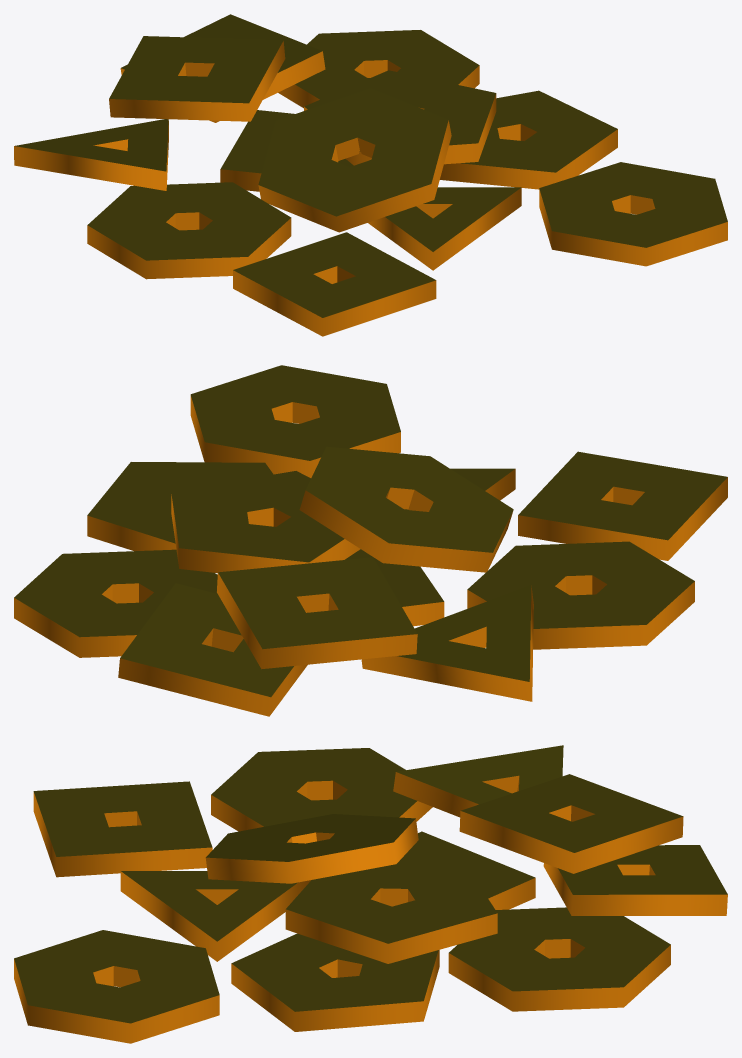
Rendered from prop_pile_of_coins_1.FBX.
3 renders of one model, top to bottom at view 1: azimuth 30°, elevation 25°; view 2: azimuth 150°, elevation 25°; view 3: azimuth 270°, elevation 25°, orthographic. The views are drawn at different scales.
Parts seen in each view (by area): view 1: Coins 2; view 2: Coins 2; view 3: Coins 2.
Boxes of the visible parts, x1=… form: Coins 2: x1=14, y1=14, x2=727, y2=336; Coins 2: x1=14, y1=365, x2=727, y2=716; Coins 2: x1=14, y1=745, x2=727, y2=1043.
Size of the model in its own units: 18.22 by 2.54 by 19.94.
